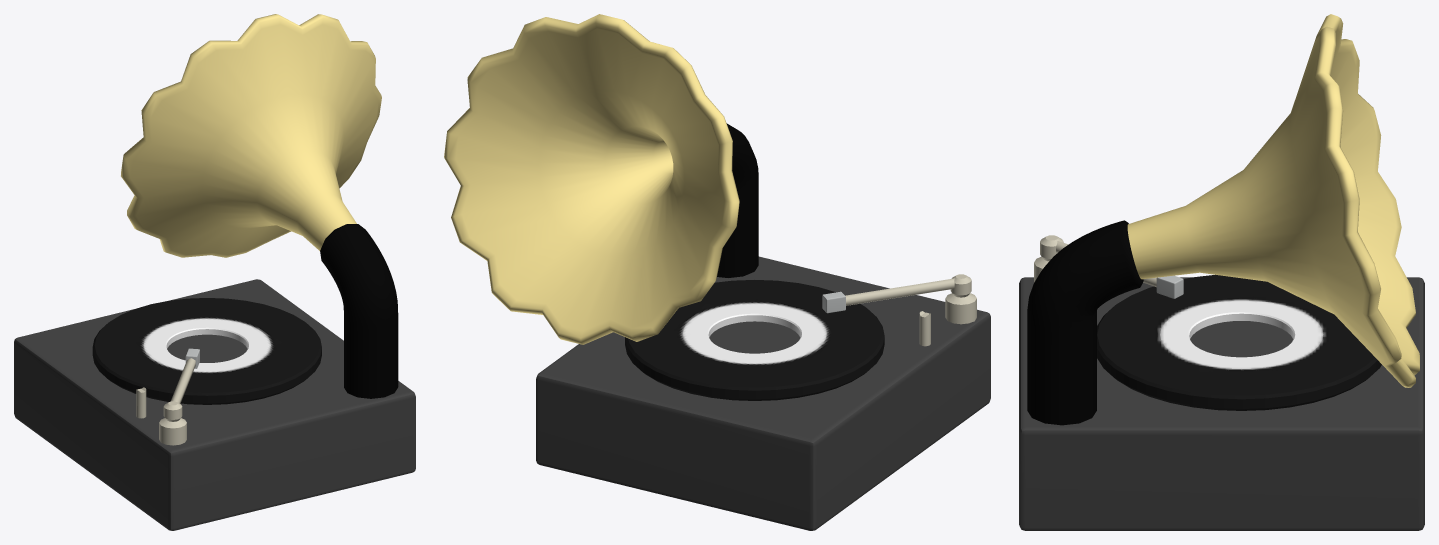
Rendered from MachineFBXASC046002.fbx.
3 views of the same model, side by side, from view 1: azimuth 30°, elevation 25°; view 2: azimuth 150°, elevation 25°; view 3: azimuth 270°, elevation 25° (orthographic). The views are drawn at different scales.
Visible parts, largest first — view 1: MAT_Music; view 2: MAT_Music; view 3: MAT_Music.
Boxes of the visible parts, x1,y1,x2,y2 form: MAT_Music: (14, 14, 415, 530); MAT_Music: (444, 14, 990, 530); MAT_Music: (1019, 14, 1424, 530).
Size of the model in its own units: 2.8 by 2.9 by 2.21.
Materials: 1 (1 with a texture image).
